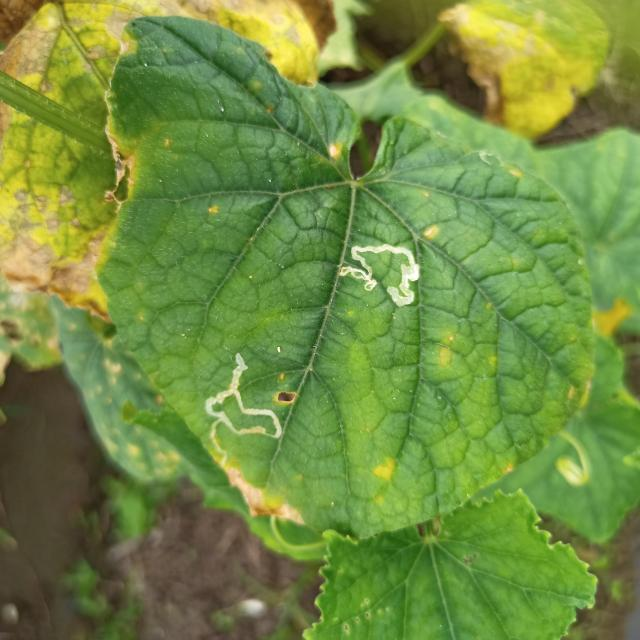disease_cucumber: (369, 458, 397, 504), (566, 378, 598, 411), (436, 333, 456, 368), (328, 139, 343, 165), (422, 222, 435, 239), (506, 168, 524, 180), (206, 203, 220, 218)
